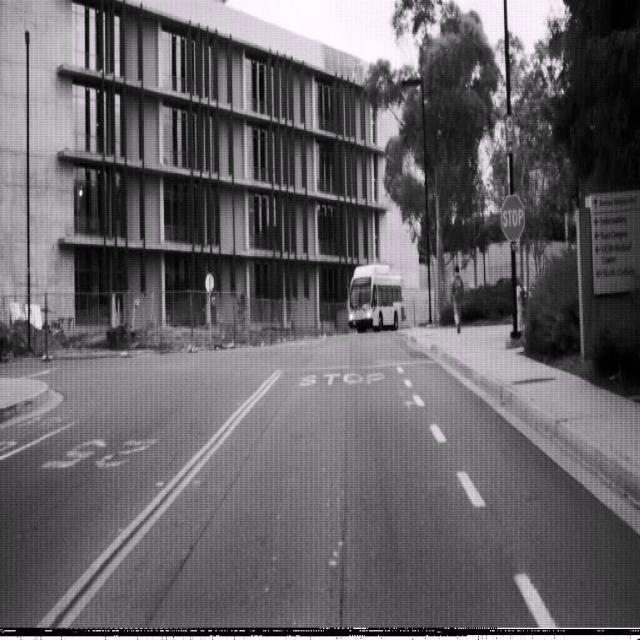stop: (500, 192, 526, 243)
